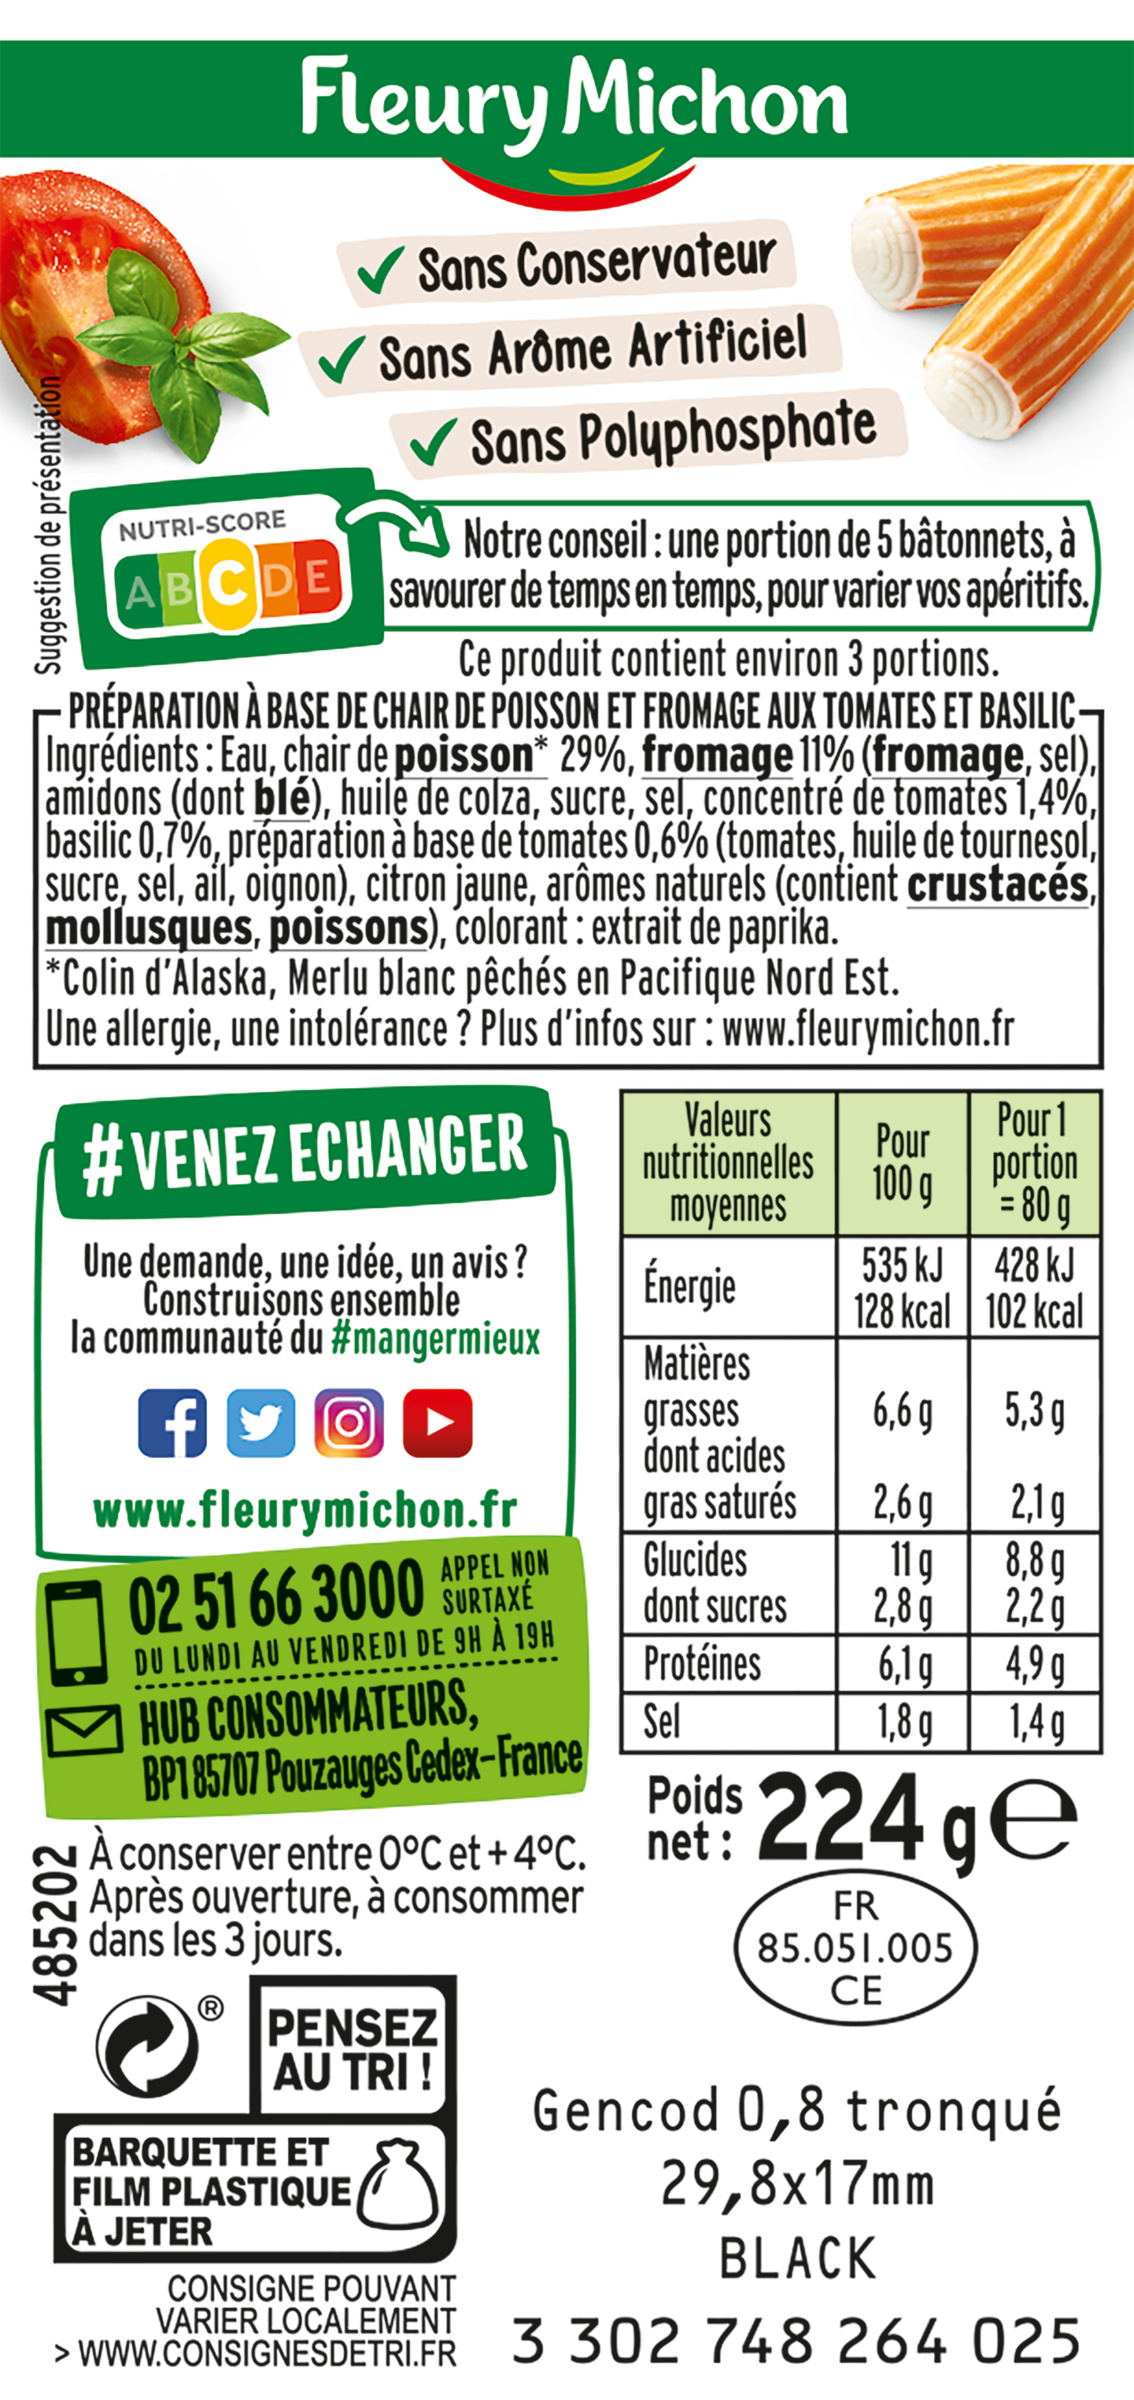column: (643, 1102, 816, 1736), (986, 1101, 1087, 1740), (854, 1116, 949, 1737)
table: (608, 1081, 1110, 1762)
